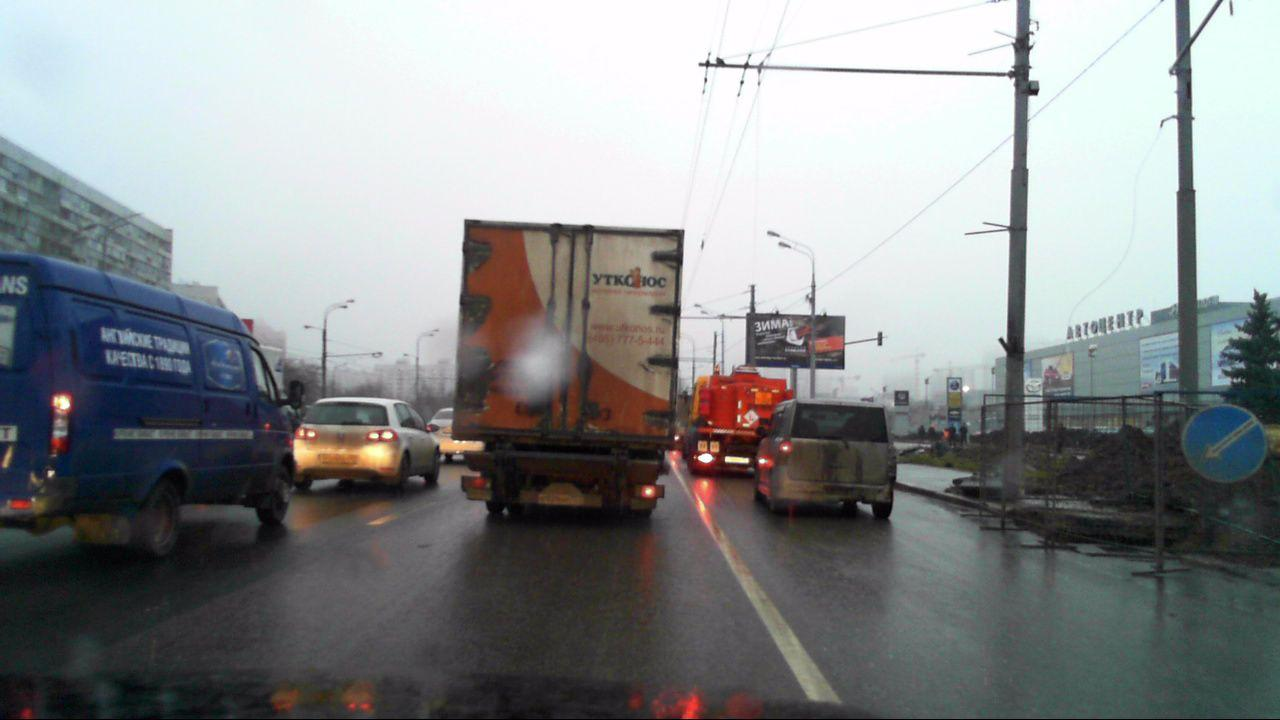4_2_2: (1179, 406, 1267, 482)
